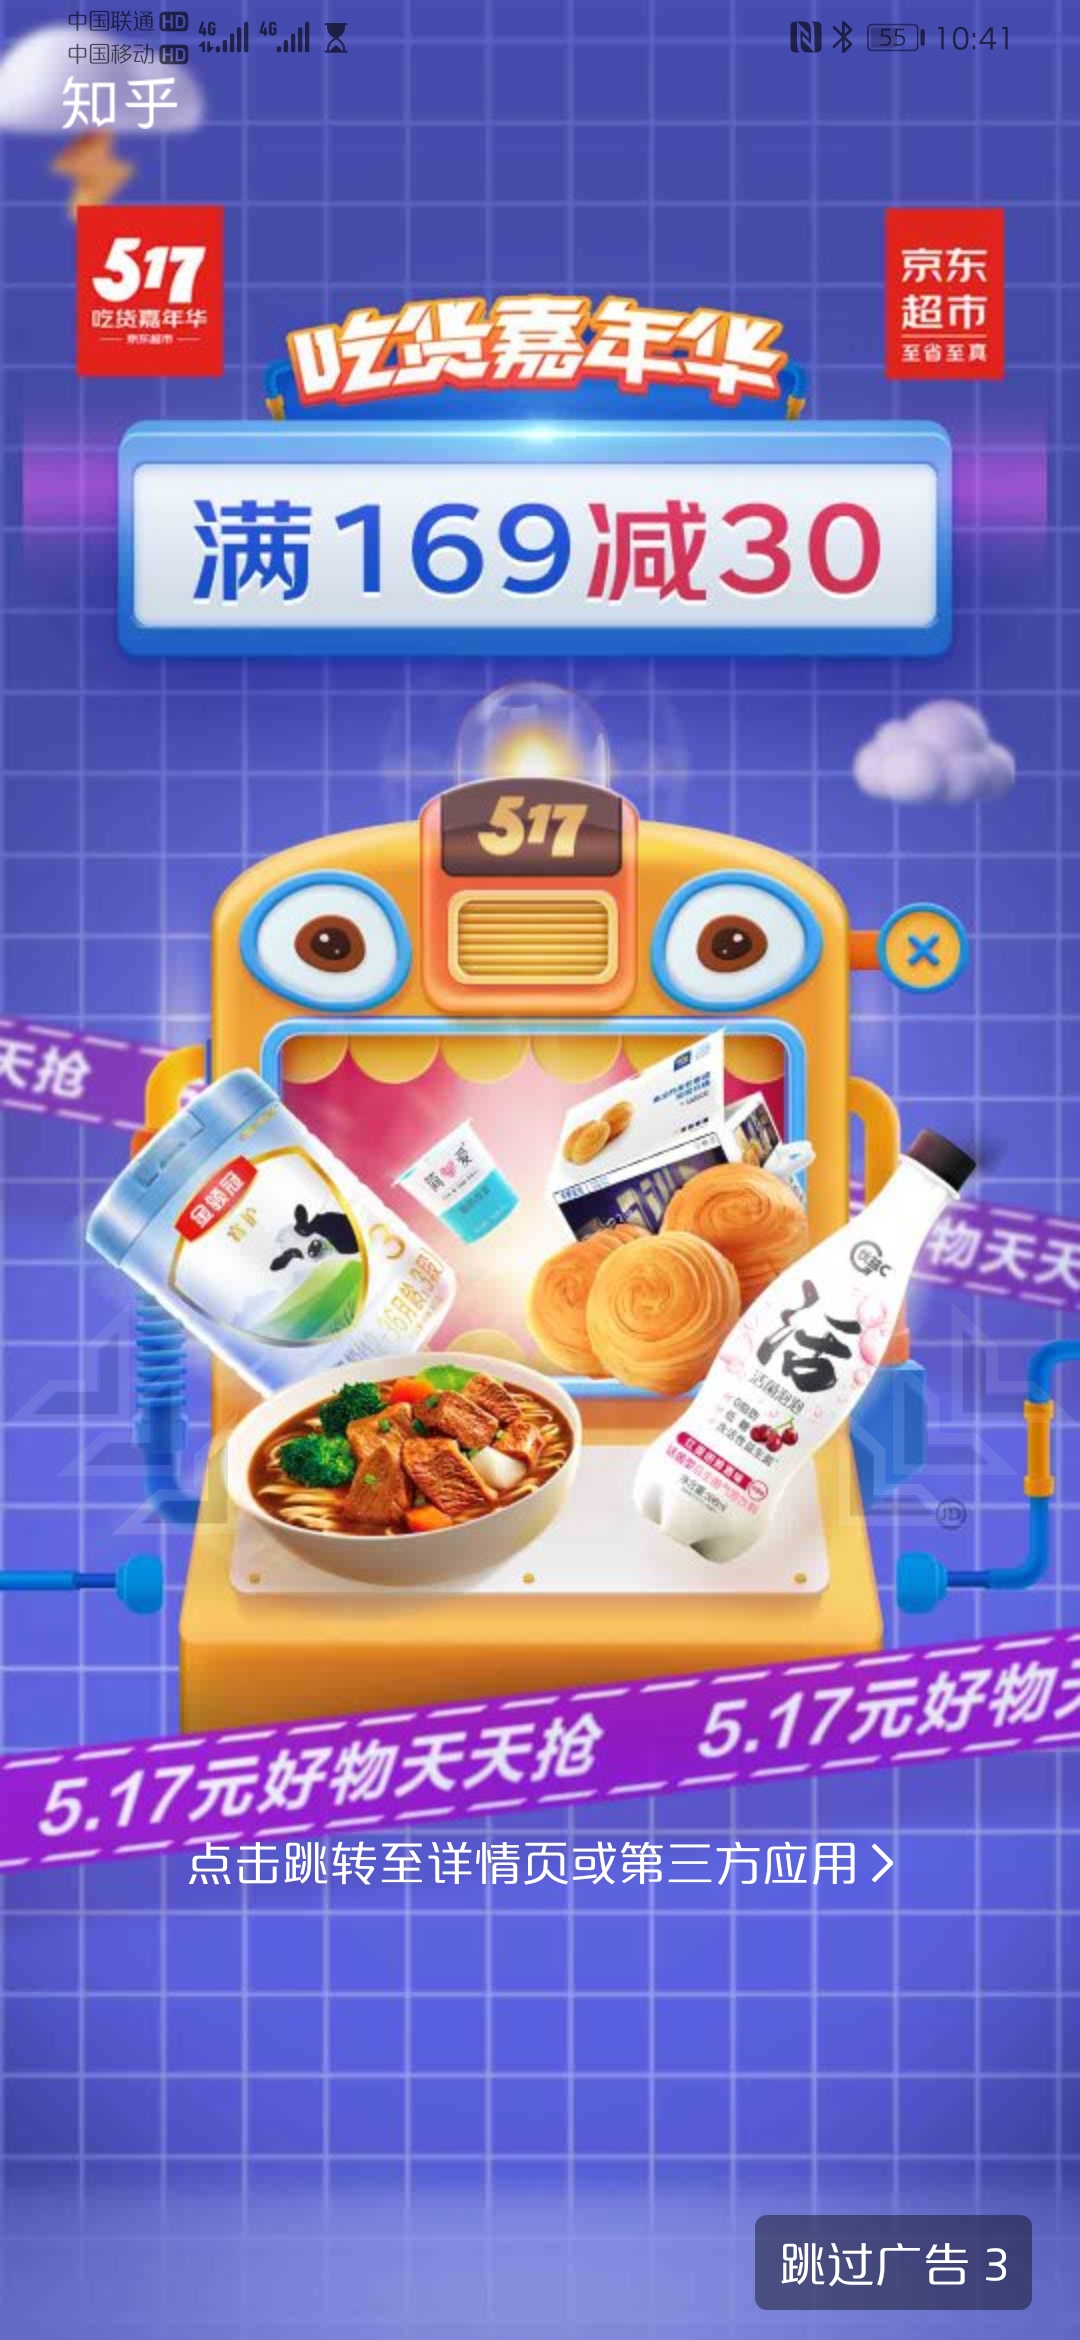skip: (759, 2221, 1031, 2313)
